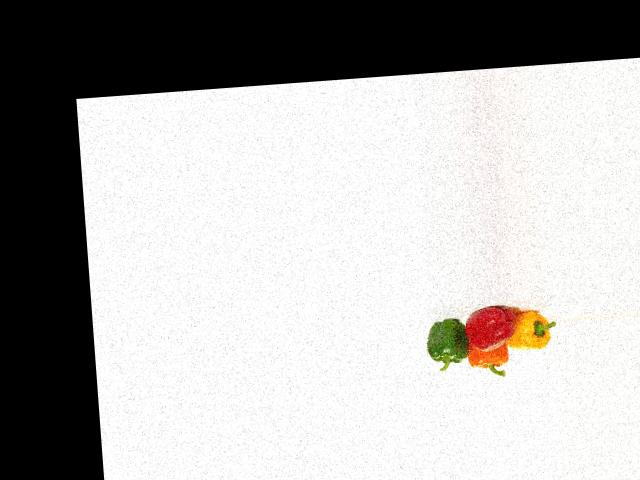bell_pepper: (424, 310, 472, 369)
